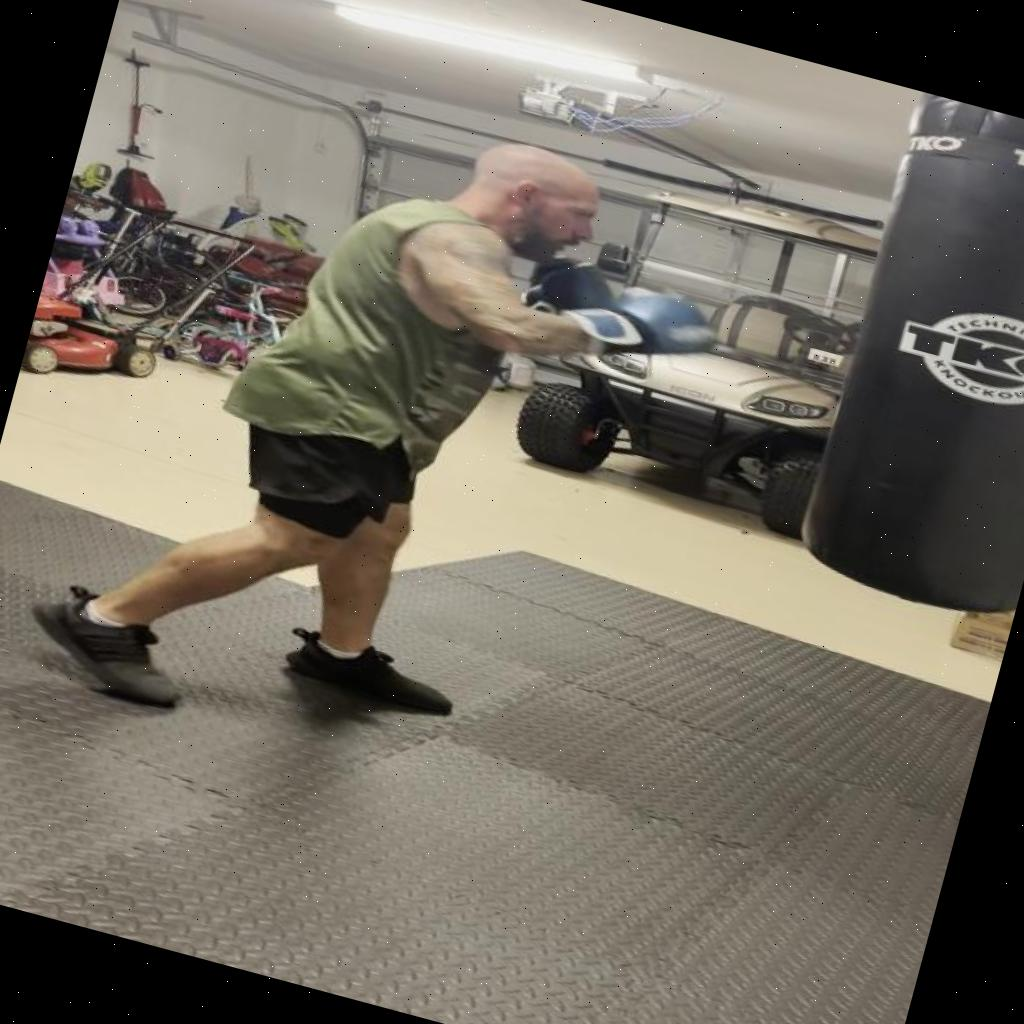bag: (786, 91, 1024, 641)
cross: (284, 66, 800, 426)
